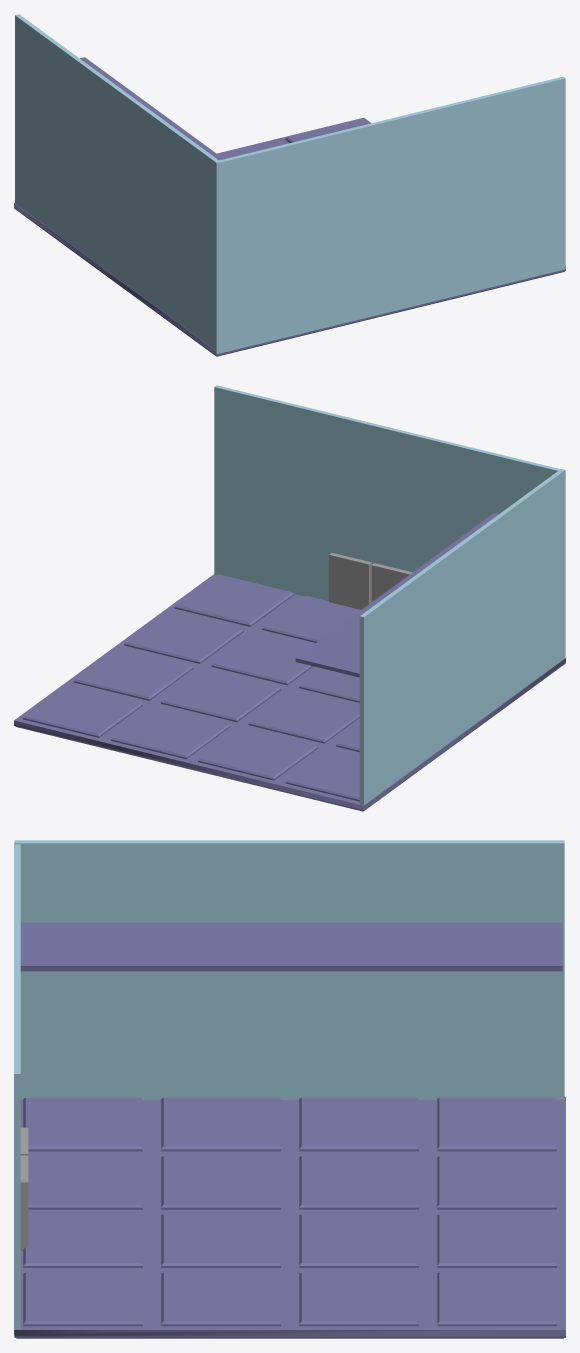
Rendered from Escenario_beta_1.1.fbx.
3 renders of one model, top to bottom at view 1: azimuth 30°, elevation 25°; view 2: azimuth 150°, elevation 25°; view 3: azimuth 270°, elevation 25°, orthographic. The views are drawn at different scales.
Parts seen in each view (by area): view 1: pCube2; view 2: pCube2; view 3: pCube2.
Part boxes in pixels (left/top/right/bottom): pCube2: left=14, top=14, right=565, bottom=356; pCube2: left=14, top=385, right=565, bottom=811; pCube2: left=14, top=840, right=565, bottom=1338.
Bounding box in the file's own units: 23.07 × 12.28 × 23.08.
